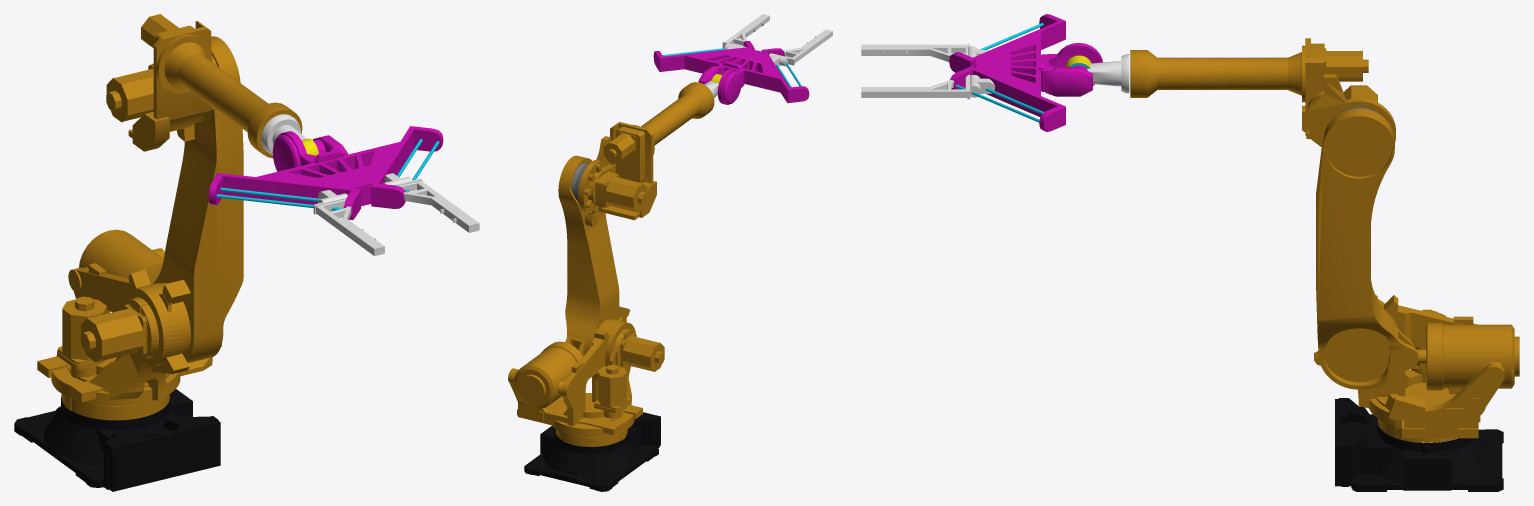
The model's file is ARM.FBX.
The picture shows the model from 3 angles, left to right: view 1: azimuth 30°, elevation 25°; view 2: azimuth 150°, elevation 25°; view 3: azimuth 270°, elevation 25°; orthographic projection. The views are drawn at different scales.
Visible parts, largest first — view 1: Arm_A, Arm_B, Arm_C, Base, ArmF, Arm_E, Clip_R, Clip_L, Arm_D; view 2: Arm_A, Arm_C, Arm_B, Base, ArmF, Arm_E, Clip_R, Clip_L; view 3: Arm_B, Arm_A, Arm_C, Base, ArmF, Arm_E, Clip_L, Clip_R, Arm_D.
Part boxes in pixels (x1=…): Arm_A: x1=37, y1=229, x2=221, y2=420; Arm_B: x1=153, y1=36, x2=243, y2=362; Arm_C: x1=106, y1=14, x2=302, y2=158; Base: x1=14, y1=389, x2=220, y2=491; ArmF: x1=208, y1=126, x2=443, y2=220; Arm_E: x1=272, y1=131, x2=347, y2=171; Clip_R: x1=313, y1=190, x2=384, y2=255; Clip_L: x1=382, y1=173, x2=479, y2=232; Arm_D: x1=261, y1=114, x2=306, y2=154; Arm_A: x1=508, y1=316, x2=664, y2=446; Arm_C: x1=578, y1=82, x2=714, y2=220; Arm_B: x1=558, y1=155, x2=630, y2=356; Base: x1=524, y1=412, x2=660, y2=491; ArmF: x1=653, y1=41, x2=809, y2=103; Arm_E: x1=698, y1=64, x2=744, y2=104; Clip_R: x1=769, y1=29, x2=832, y2=66; Clip_L: x1=722, y1=14, x2=769, y2=49; Arm_B: x1=1316, y1=107, x2=1418, y2=389; Arm_A: x1=1314, y1=294, x2=1519, y2=442; Arm_C: x1=1130, y1=38, x2=1395, y2=146; Base: x1=1335, y1=398, x2=1503, y2=491; ArmF: x1=949, y1=14, x2=1065, y2=131; Arm_E: x1=1041, y1=43, x2=1102, y2=96; Clip_L: x1=861, y1=74, x2=994, y2=99; Clip_R: x1=861, y1=43, x2=989, y2=61; Arm_D: x1=1087, y1=54, x2=1129, y2=93.
Size of the model in its own units: 113 by 301 by 210.
